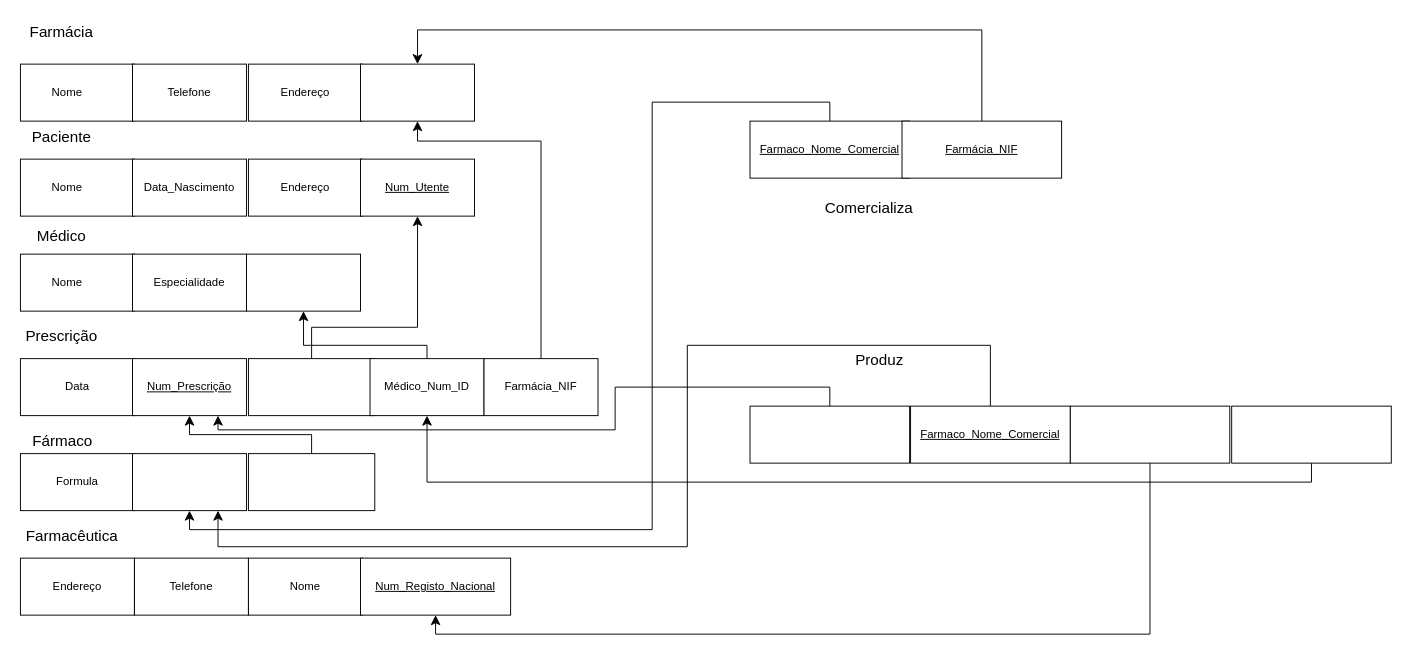
Image size: 1408x660. Some labels were removed from this diagram. The shapes that lost their labels are listed below. From the top down, each one's box as (x1, y1, x2, y2) in pixels, then its label:
(360, 63, 475, 121): NIF
(246, 253, 361, 311): Num_Identificação
(247, 358, 375, 416): Paciente_Num_Utente
(749, 405, 910, 463): Prescrição_Num_Unico
(1069, 405, 1230, 463): Farmacêutica_NRN
(1231, 405, 1391, 463): Médico_ID
(132, 453, 247, 511): Nome_Comercial
(247, 453, 375, 511): Prescrição_Num_Presc
